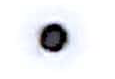cancer: (19, 6, 95, 68)
